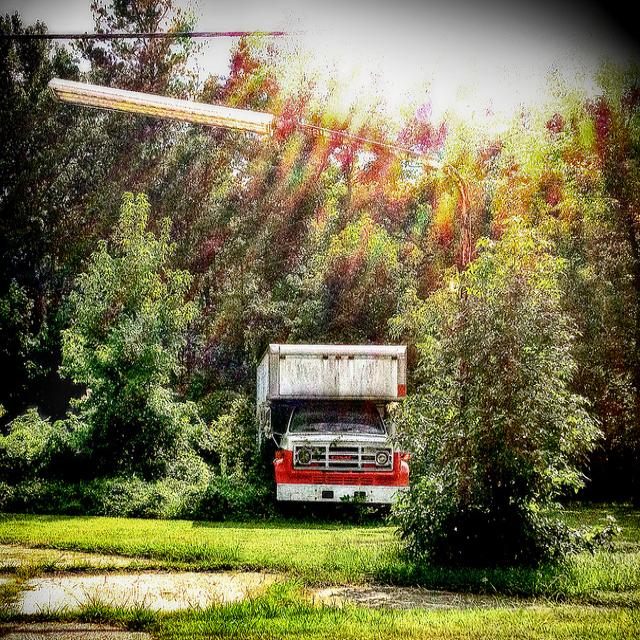Vehicle: (254, 343, 411, 522)
